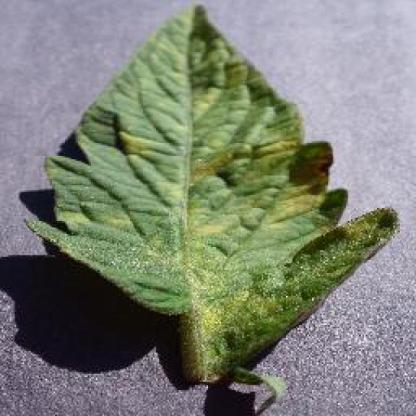Tomato_Leaf_Mold: (26, 9, 395, 379)
